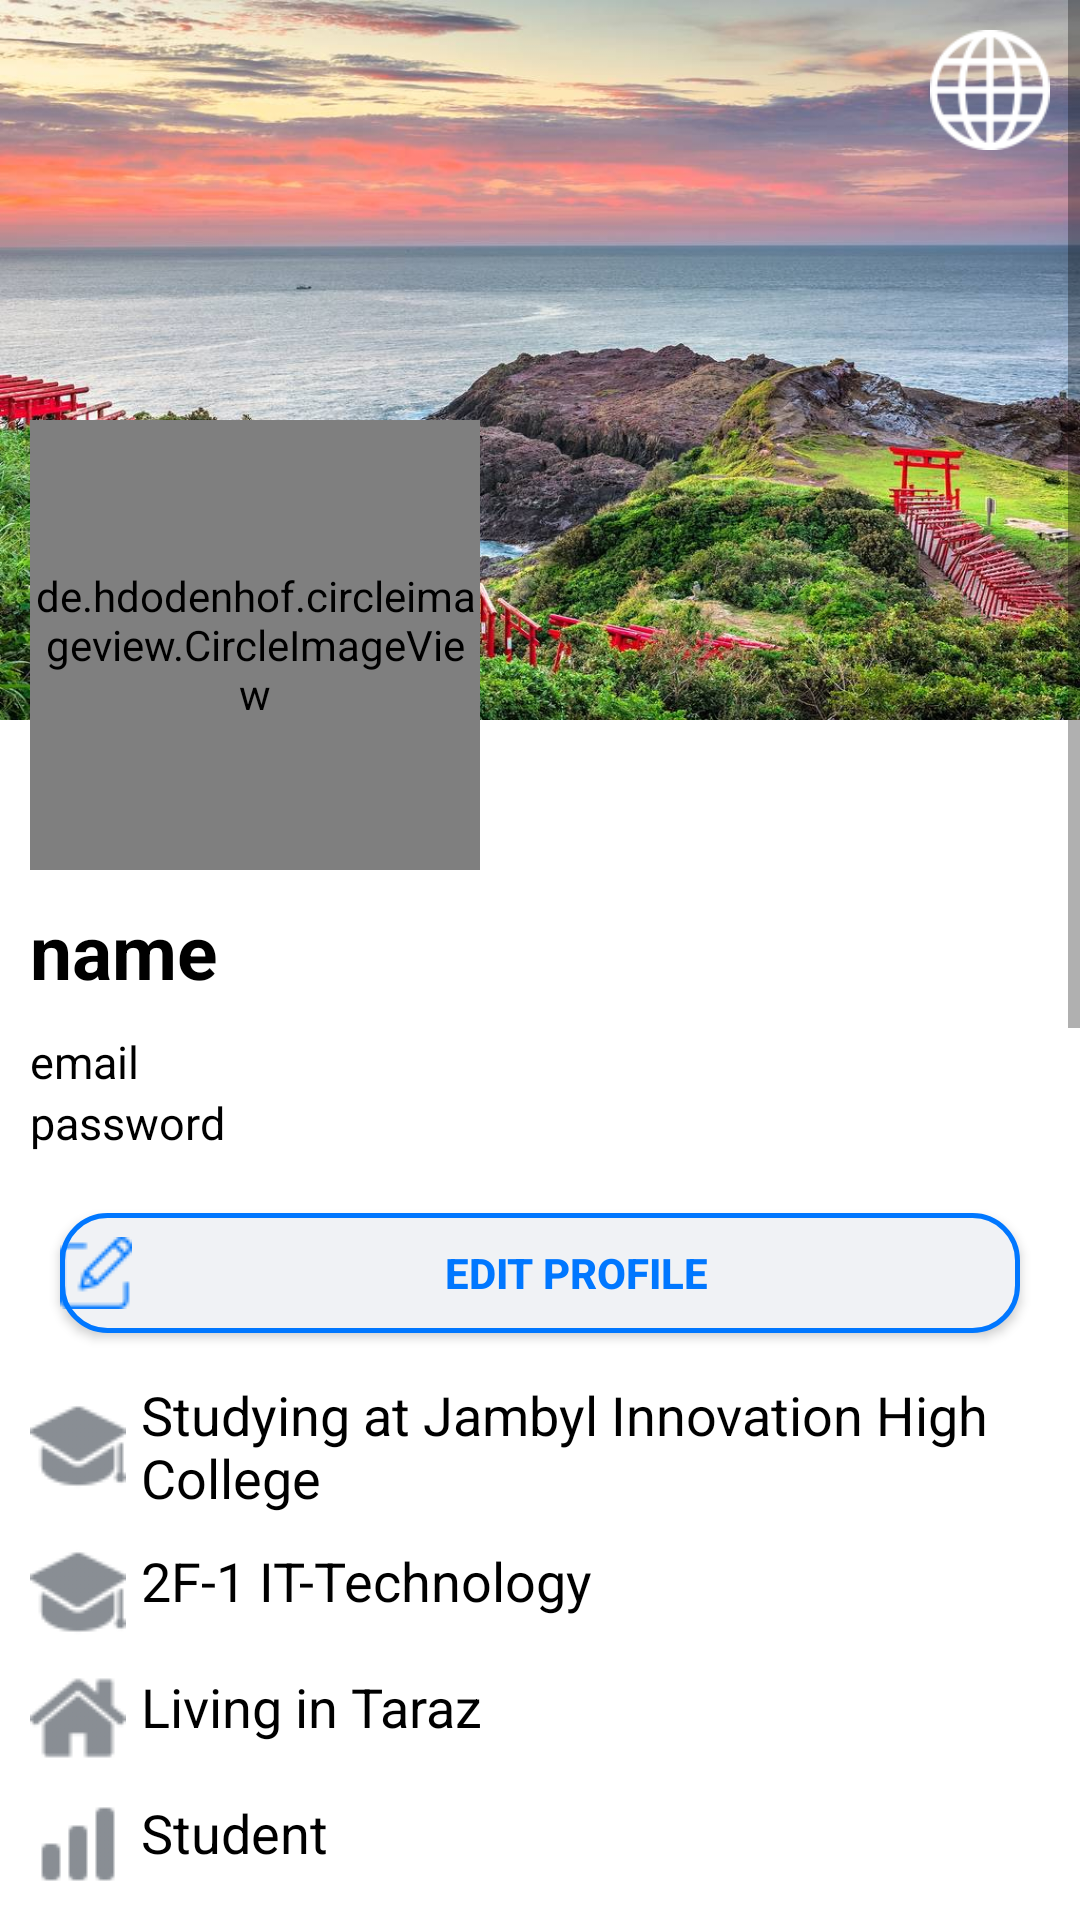

Point at icon controls on the screen. Image size 1080px×1920px, points as [x,y].
world: [990,90]
